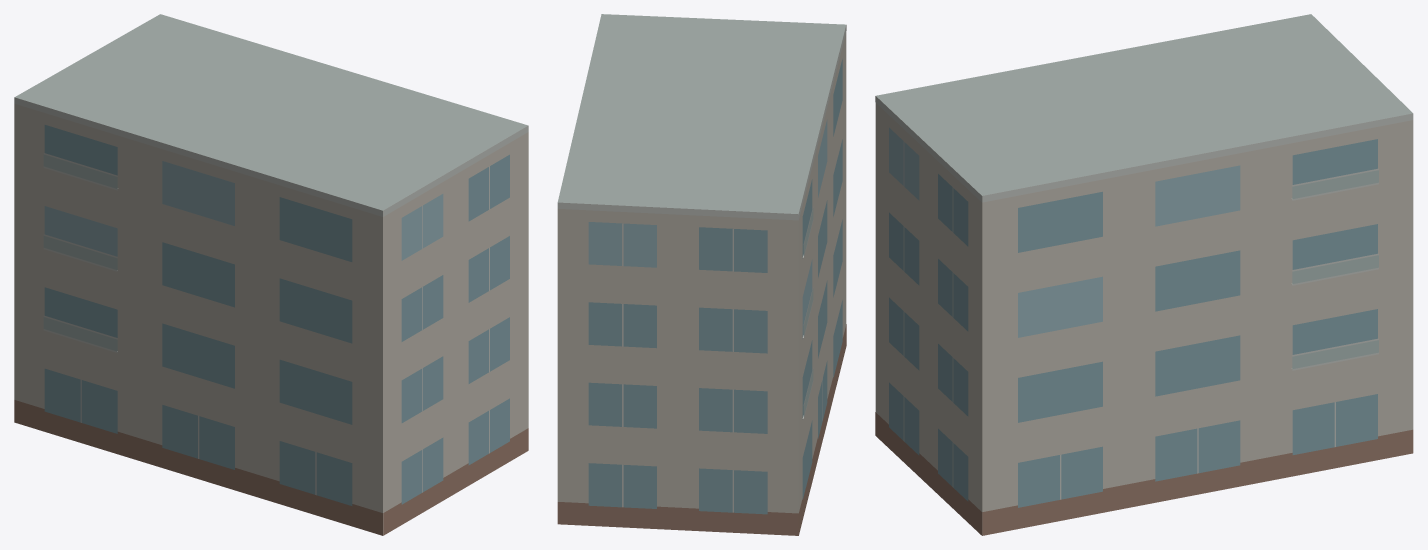
The model's file is survey-upis-32740084.glb.
The picture shows the model from 3 angles, left to right: view 1: azimuth 30°, elevation 25°; view 2: azimuth 150°, elevation 25°; view 3: azimuth 270°, elevation 25°; orthographic projection. The views are drawn at different scales.
Visible parts, largest first — view 1: survey-upis-32740084.tmp; view 2: survey-upis-32740084.tmp; view 3: survey-upis-32740084.tmp.
Boxes of the visible parts, x1,y1,x2,y2 form: survey-upis-32740084.tmp: (14,14,528,535); survey-upis-32740084.tmp: (557,14,846,535); survey-upis-32740084.tmp: (875,14,1413,535).
Size of the model in its own units: 14.36 by 12.5 by 17.94.
